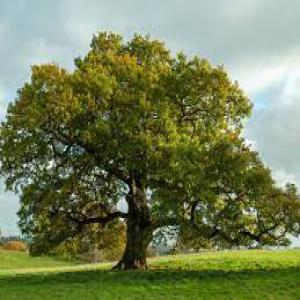Tree: (0, 29, 299, 274)
